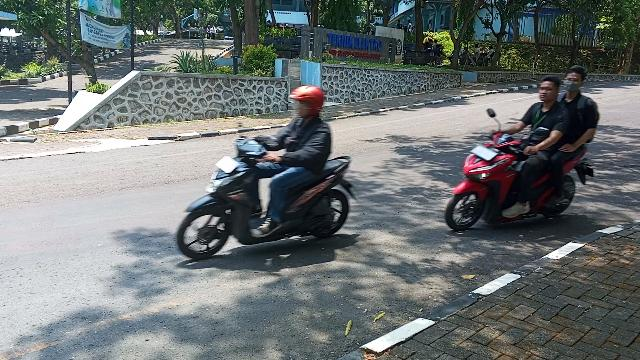helm: (288, 85, 326, 121)
motor: (176, 123, 359, 263), (445, 107, 597, 234)
non-helm: (539, 76, 562, 107), (565, 66, 588, 94)
